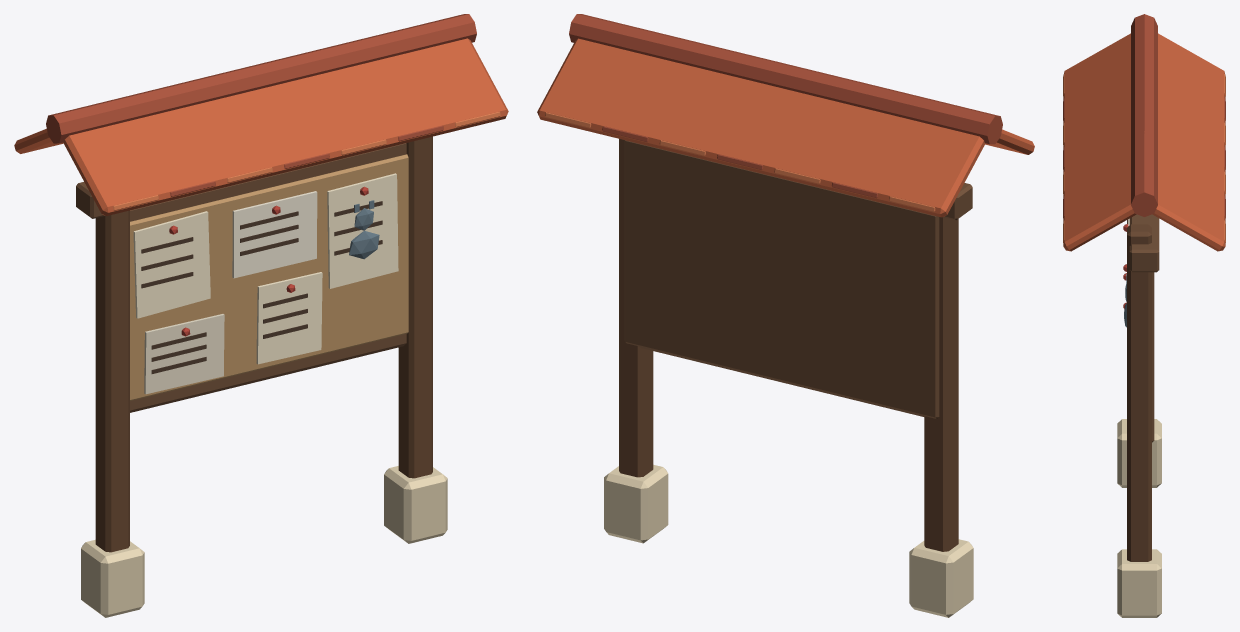
3 views of the same model, side by side, from view 1: azimuth 30°, elevation 25°; view 2: azimuth 150°, elevation 25°; view 3: azimuth 270°, elevation 25° (orthographic). The views are drawn at different scales.
Visible parts, largest first — view 1: lane_terracotta, lane_timber, lane_wood_light, lane_paper, lane_terracotta_dark, lane_limestone, lane_wood_dark, lane_white, lane_cream, lane_ink, lane_terracotta_light, lane_blue; view 2: lane_wood_dark, lane_terracotta, lane_timber, lane_terracotta_dark, lane_limestone, lane_terracotta_light; view 3: lane_terracotta, lane_timber, lane_terracotta_dark, lane_limestone, lane_wood_dark, lane_terracotta_light.
Boxes of the visible parts, bbox=[...] form: lane_terracotta: bbox=[14, 38, 508, 215]; lane_timber: bbox=[95, 136, 432, 552]; lane_wood_light: bbox=[130, 154, 408, 400]; lane_paper: bbox=[133, 173, 398, 364]; lane_terracotta_dark: bbox=[46, 14, 476, 196]; lane_limestone: bbox=[81, 466, 447, 617]; lane_wood_dark: bbox=[76, 143, 406, 412]; lane_white: bbox=[232, 191, 317, 278]; lane_cream: bbox=[144, 314, 224, 394]; lane_ink: bbox=[141, 201, 382, 373]; lane_terracotta_light: bbox=[113, 111, 500, 210]; lane_blue: bbox=[349, 200, 379, 259]; lane_wood_dark: bbox=[624, 140, 972, 418]; lane_terracotta: bbox=[537, 38, 1034, 217]; lane_timber: bbox=[619, 139, 958, 551]; lane_terracotta_dark: bbox=[569, 14, 1002, 198]; lane_limestone: bbox=[604, 464, 973, 617]; lane_terracotta_light: bbox=[545, 112, 935, 211]; lane_terracotta: bbox=[1063, 33, 1225, 251]; lane_timber: bbox=[1127, 220, 1151, 561]; lane_terracotta_dark: bbox=[1063, 14, 1225, 218]; lane_limestone: bbox=[1117, 419, 1161, 617]; lane_wood_dark: bbox=[1129, 214, 1159, 442]; lane_terracotta_light: bbox=[1063, 74, 1225, 242].
Size of the model in its own units: 1.7 by 1.97 by 0.6557.
